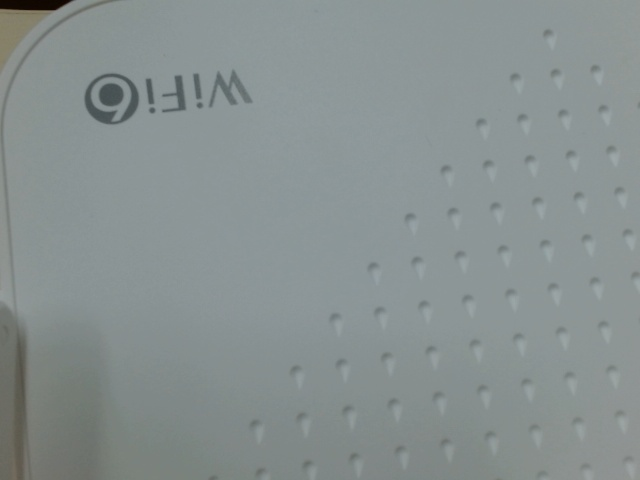AK_ZTEWIFI6: (77, 61, 266, 133)
